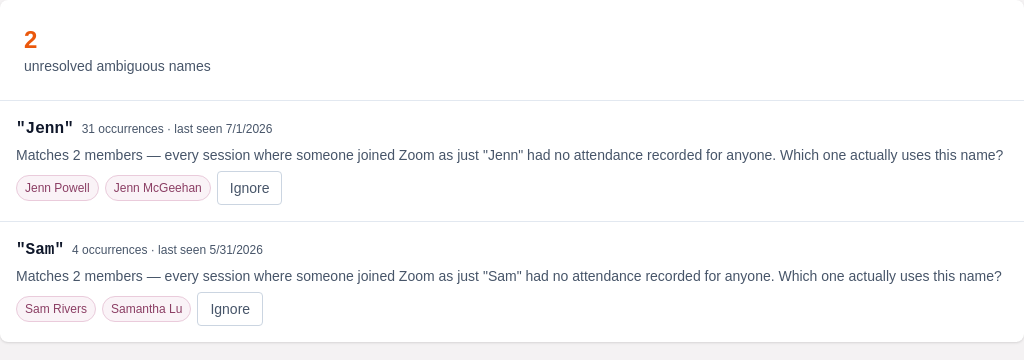
Scenario: AmbiguousNamesResolver › assigns a candidate and removes the row on success
What coordinates should you click on to do the following:
click the button "Jenn Powell"
I would click on:
 (57, 188)
Its box is [16,175,99,201].
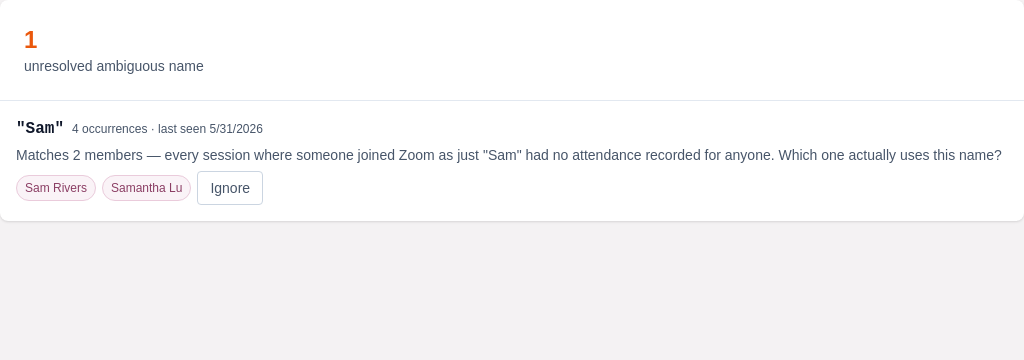
Check: the text "\"Sam\"" is shown, box [16,117,64,141]
Check: the text "\"Jenn\"" is gone
